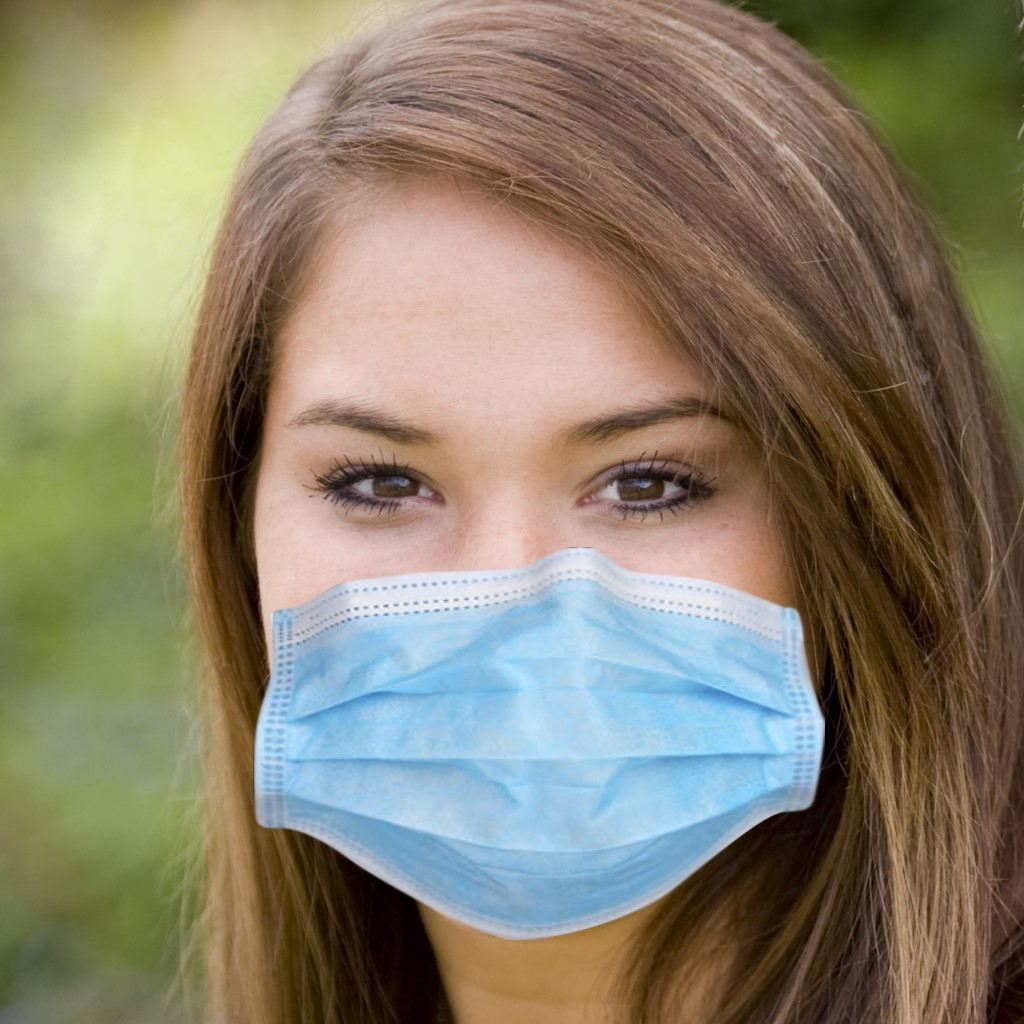con_mascara: (245, 186, 807, 908)
